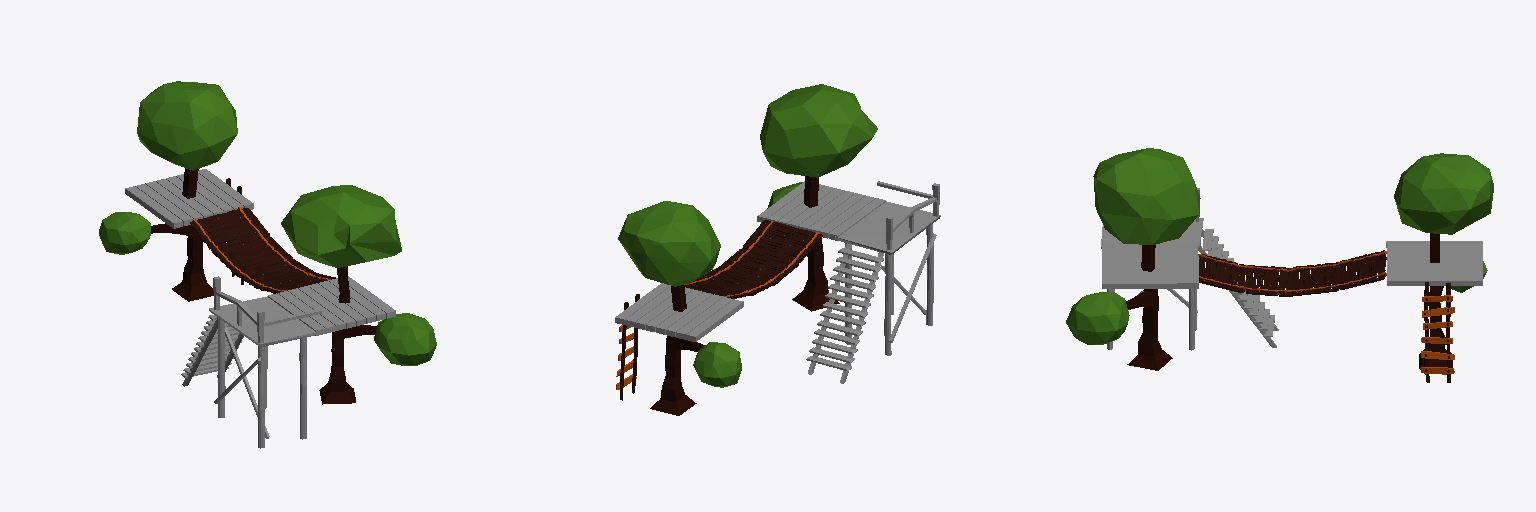
File: treeHouse.obj
3 views of the same model, side by side, from view 1: azimuth 30°, elevation 25°; view 2: azimuth 150°, elevation 25°; view 3: azimuth 270°, elevation 25° (orthographic).
Visible parts, largest first — view 1: House-stair-middleSize, Icosphere.003, Icosphere.001, Platform_Tree.001_Cube.005, Platform_Tree.002_Cube.004, Icosphere.002, Tree_Cube, Tree.001_Cube.003, group[number redacted], Icosphere, group[number redacted].001, group[number redacted].002 (+1 smaller); view 2: House-stair-middleSize, Icosphere.003, Icosphere.001, Platform_Tree.001_Cube.005, Platform_Tree.002_Cube.004, Tree_Cube, group[number redacted].003, Tree.001_Cube.003, Icosphere, group[number redacted].002, group[number redacted], group[number redacted].001 (+1 smaller); view 3: Icosphere.003, Icosphere.001, Platform_Tree.001_Cube.005, Platform_Tree.002_Cube.004, House-stair-middleSize, Icosphere.002, Tree.001_Cube.003, group[number redacted], group[number redacted], group[number redacted].003, group[number redacted].001, group[number redacted].002 (+1 smaller).
Part boxes in pixels (x1,y1,x2,y2): House-stair-middleSize: (181,276,321,448); Icosphere.003: (281,185,401,267); Icosphere.001: (137,81,237,170); Platform_Tree.001_Cube.005: (125,169,253,228); Platform_Tree.002_Cube.004: (268,276,395,335); Icosphere.002: (374,313,436,365); Tree_Cube: (151,168,213,301); Tree.001_Cube.003: (319,266,376,404); group[number redacted]: (190,208,269,250); Icosphere: (99,212,150,254); group[number redacted].001: (212,236,292,273); group[number redacted].002: (235,259,315,288); House-stair-middleSize: (806,181,940,383); Icosphere.003: (760,84,877,177); Icosphere.001: (618,201,720,286); Platform_Tree.001_Cube.005: (615,283,743,341); Platform_Tree.002_Cube.004: (757,181,885,240); Tree_Cube: (650,285,704,415); group[number redacted].003: (743,220,822,262); Tree.001_Cube.003: (792,176,839,311); Icosphere: (693,342,741,387); group[number redacted].002: (718,248,798,283); group[number redacted]: (616,294,639,400); group[number redacted].001: (698,268,775,295); Icosphere.003: (1093,148,1200,244); Icosphere.001: (1394,153,1493,234); Platform_Tree.001_Cube.005: (1386,241,1482,285); Platform_Tree.002_Cube.004: (1102,244,1198,288); House-stair-middleSize: (1101,188,1278,350); Icosphere.002: (1066,292,1129,344); Tree.001_Cube.003: (1126,245,1172,370); group[number redacted]: (1420,282,1454,382); group[number redacted]: (1338,250,1386,289); group[number redacted].003: (1199,254,1245,292); group[number redacted].001: (1291,262,1338,295); group[number redacted].002: (1245,265,1292,296).
Bounding box in the file's own units: 37.53 × 46.44 × 81.3.